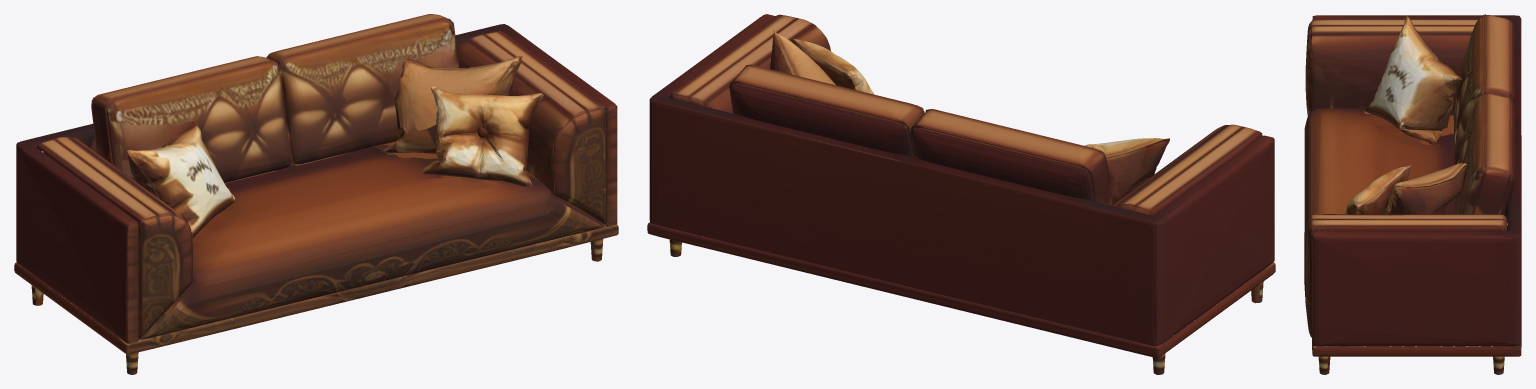
File: edited_mesh.glb
3 renders of one model, left to right at view 1: azimuth 30°, elevation 25°; view 2: azimuth 150°, elevation 25°; view 3: azimuth 270°, elevation 25°, orthographic. The views are drawn at different scales.
Visible parts, largest first — view 1: solid_001_wire; view 2: solid_001_wire; view 3: solid_001_wire.
Part boxes in pixels (x1=…): solid_001_wire: x1=14, y1=14, x2=618, y2=374; solid_001_wire: x1=647, y1=14, x2=1275, y2=374; solid_001_wire: x1=1304, y1=14, x2=1521, y2=374.
Bounding box in the file's own units: 2 × 0.7464 × 0.8192.
1 material, 1 textured.
